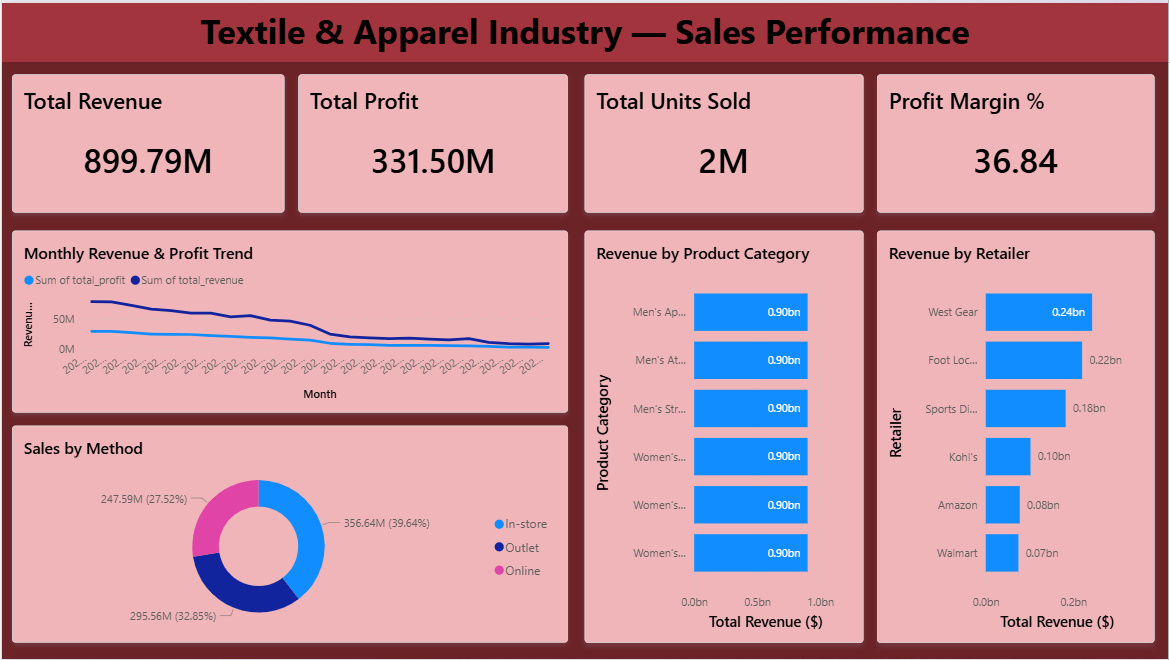

The dashboard page shown, as its layout file describes it:
{"tool":"powerbi","page":{"name":"Sales Performance","canvas":[1280,720],"ordinal":1},"visuals":[{"type":"card","title":"Total Revenue","fields":{"Values":["Sum(vw_kpi_summary.total_revenue)"]},"box":[11,78.2,299.1,152.3],"z":0},{"type":"card","title":"Total Units Sold","fields":{"Values":["Sum(vw_kpi_summary.total_units_sold)"]},"box":[639.5,78.2,306,152.3],"z":1000},{"type":"card","title":"Profit Margin %","fields":{"Values":["Sum(vw_kpi_summary.profit_margin_pct)"]},"box":[960.6,78.2,304.6,152.3],"z":2000},{"type":"card","title":"Total Profit","fields":{"Values":["Sum(vw_kpi_summary.total_profit)"]},"box":[325.2,78.2,296.4,152.3],"z":3000},{"type":"lineChart","title":"Monthly Revenue & Profit Trend","fields":{"Category":["vw_monthly_sales.sales_month"],"Y":["Sum(vw_monthly_sales.total_profit)","Sum(vw_monthly_sales.total_revenue)"]},"box":[11,249.7,610.6,200.3],"z":4000},{"type":"clusteredBarChart","title":"Revenue by Product Category","fields":{"Category":["vw_product_sales.Product"],"Y":["Sum(vw_retailer_sales.total_revenue)"]},"box":[639.5,249.7,306,452.8],"z":5000},{"type":"donutChart","title":"Sales by Method","fields":{"Category":["vw_product_sales.Sales_Method"],"Y":["Sum(vw_product_sales.total_revenue)"]},"box":[11,463.8,610.6,238.8],"z":6000},{"type":"clusteredBarChart","title":"Revenue by Retailer","fields":{"Category":["vw_retailer_sales.Retailer"],"Y":["Sum(vw_retailer_sales.total_revenue)"]},"box":[960.6,249.7,304.6,452.8],"z":7000},{"type":"textbox","box":[0,0,1280.3,64.5],"z":7001}]}

Visuals, with their boxes in screenshot pixels (x1, y1, x2, y2), scaled from the page's 1280x720 canvas onto the 1170x660 screenshot:
"Total Revenue" card: 10:72:283:211
"Total Units Sold" card: 585:72:864:211
"Profit Margin %" card: 878:72:1156:211
"Total Profit" card: 297:72:568:211
"Monthly Revenue & Profit Trend" lineChart: 10:229:568:412
"Revenue by Product Category" clusteredBarChart: 585:229:864:644
"Sales by Method" donutChart: 10:425:568:644
"Revenue by Retailer" clusteredBarChart: 878:229:1156:644
textbox: 0:0:1169:59
